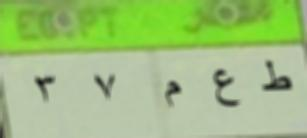3: (29, 70, 64, 111)
7: (89, 68, 122, 108)
Taa: (259, 55, 294, 95)
ain: (207, 64, 242, 114)
meem: (157, 77, 188, 116)
